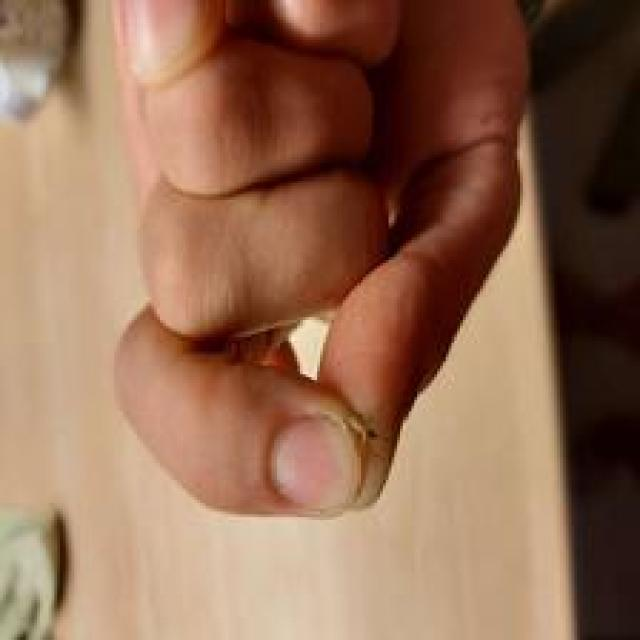Culex: (0, 500, 69, 640)
